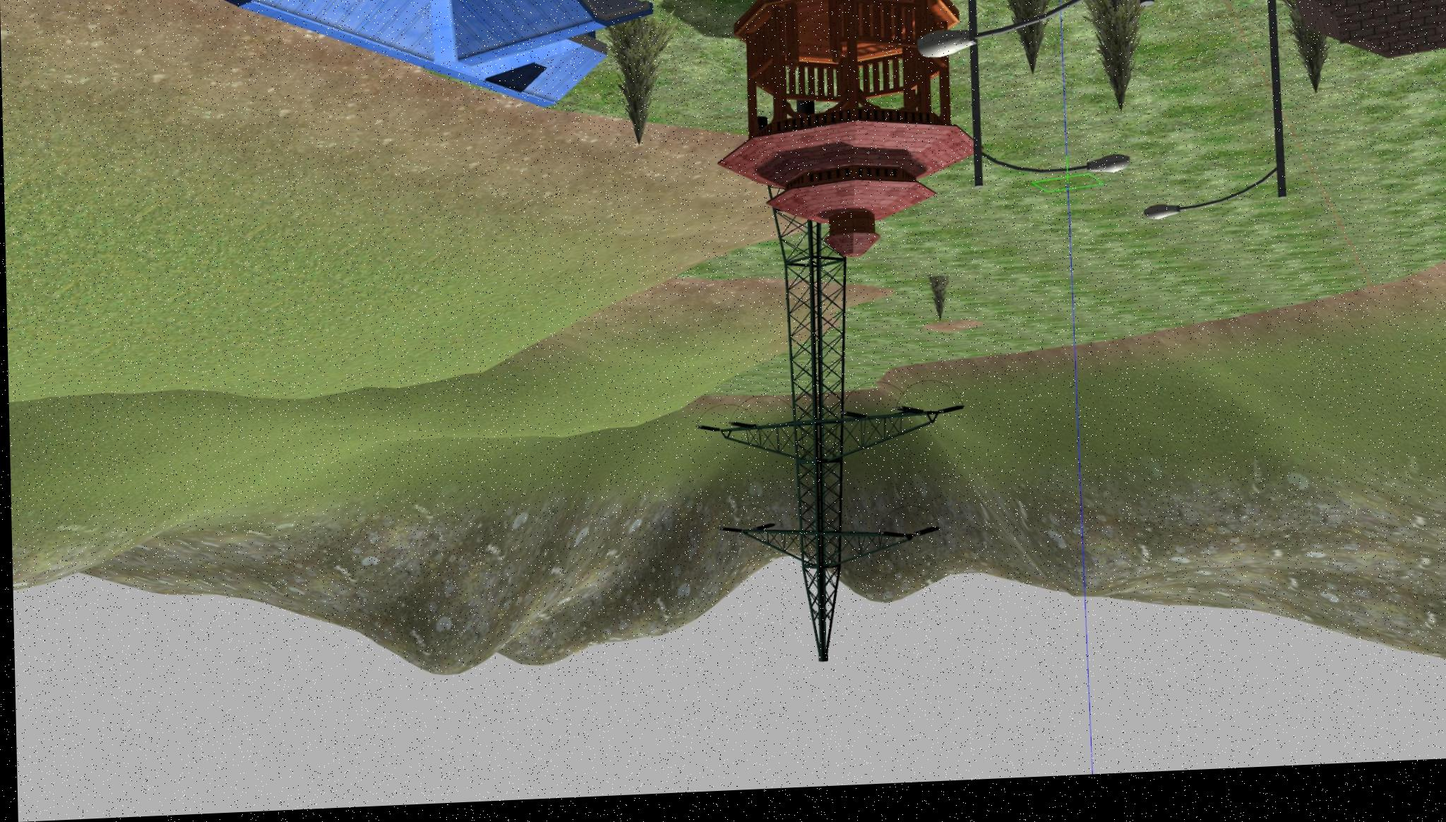tower: (709, 247, 949, 669)
